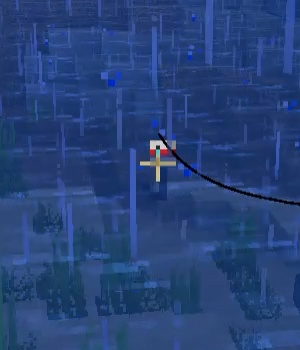up: (143, 127, 184, 201)
